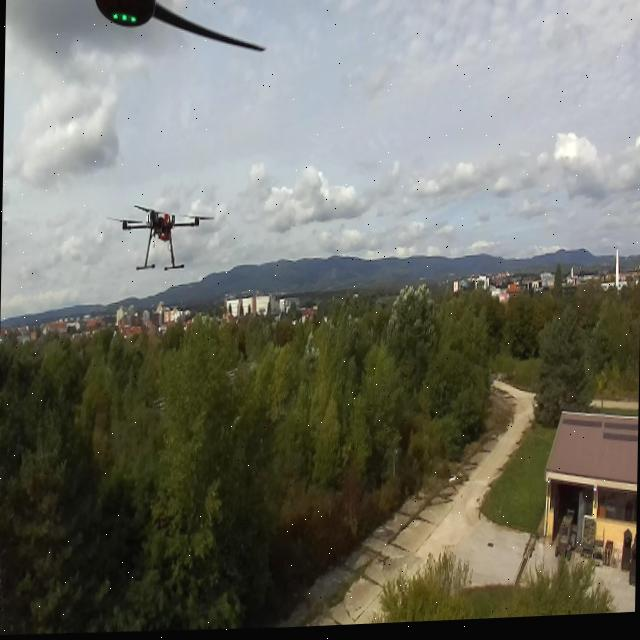drone: (90, 174, 224, 307)
